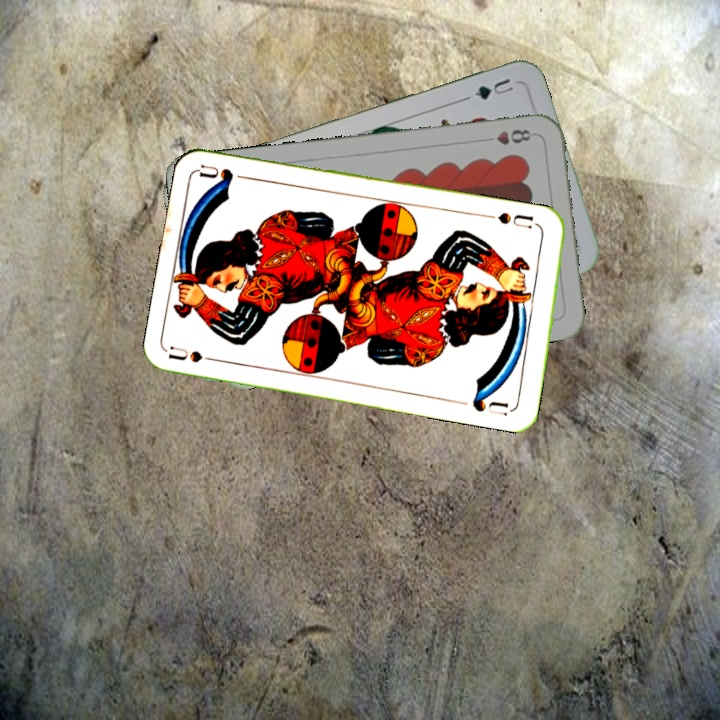GU: (461, 74, 516, 103)
H8: (492, 125, 538, 148)
SU: (166, 342, 226, 366), (494, 208, 536, 232)
